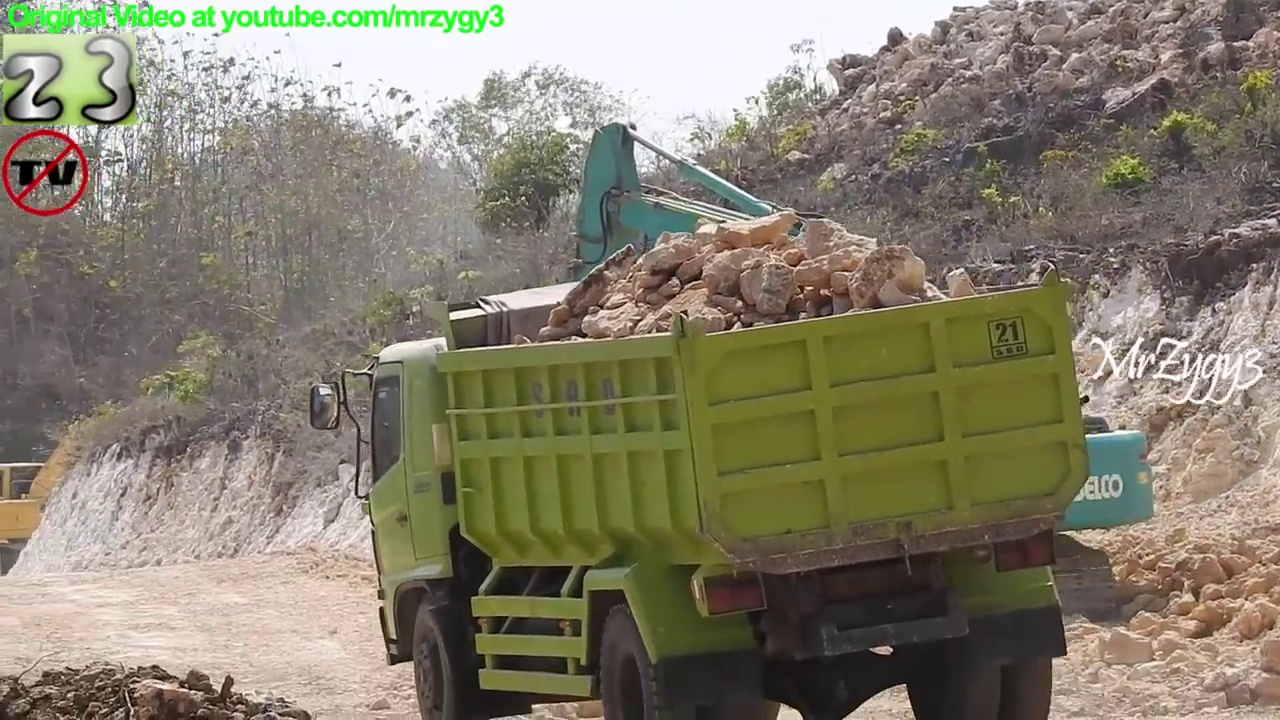excavator: (513, 117, 1160, 628), (1, 389, 202, 569)
truck: (305, 262, 1103, 720)
